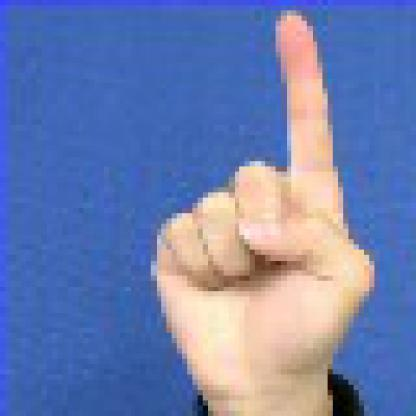one: (132, 8, 380, 415)
